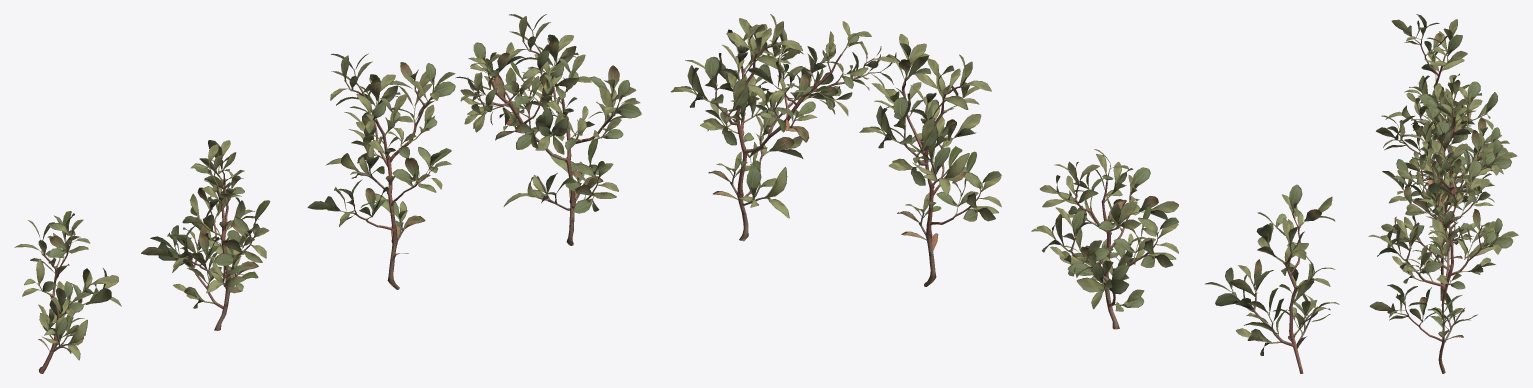
File: shrub_04.glb
The picture shows the model from 3 angles, left to right: view 1: azimuth 30°, elevation 25°; view 2: azimuth 150°, elevation 25°; view 3: azimuth 270°, elevation 25°; orthographic projection. The views are drawn at different scales.
Parts seen in each view (by area): view 1: shrub_04; view 2: shrub_04; view 3: shrub_04.
Boxes of the visible parts, box(x1,y1,x2,y2) form: shrub_04: box(14, 14, 641, 373); shrub_04: box(671, 14, 1339, 373); shrub_04: box(1368, 14, 1518, 373).
Bounding box in the file's own units: 0.5837 × 0.2192 × 0.1461.
1 material, 1 textured.
